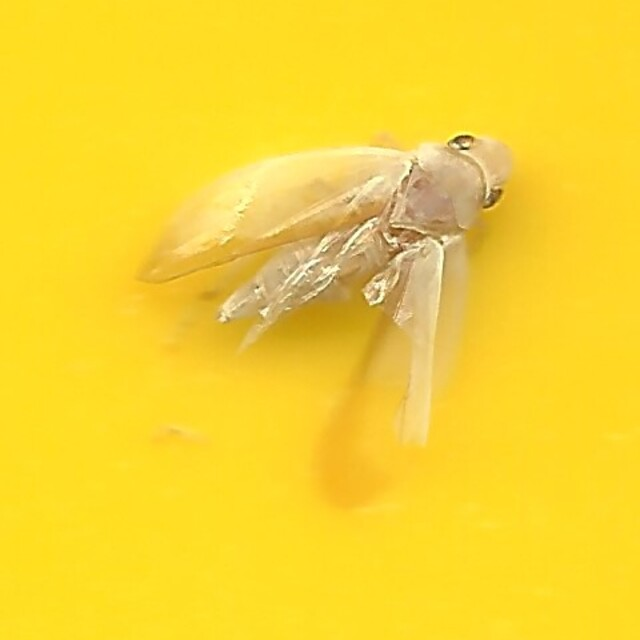Hemiptera: (133, 130, 507, 510)
